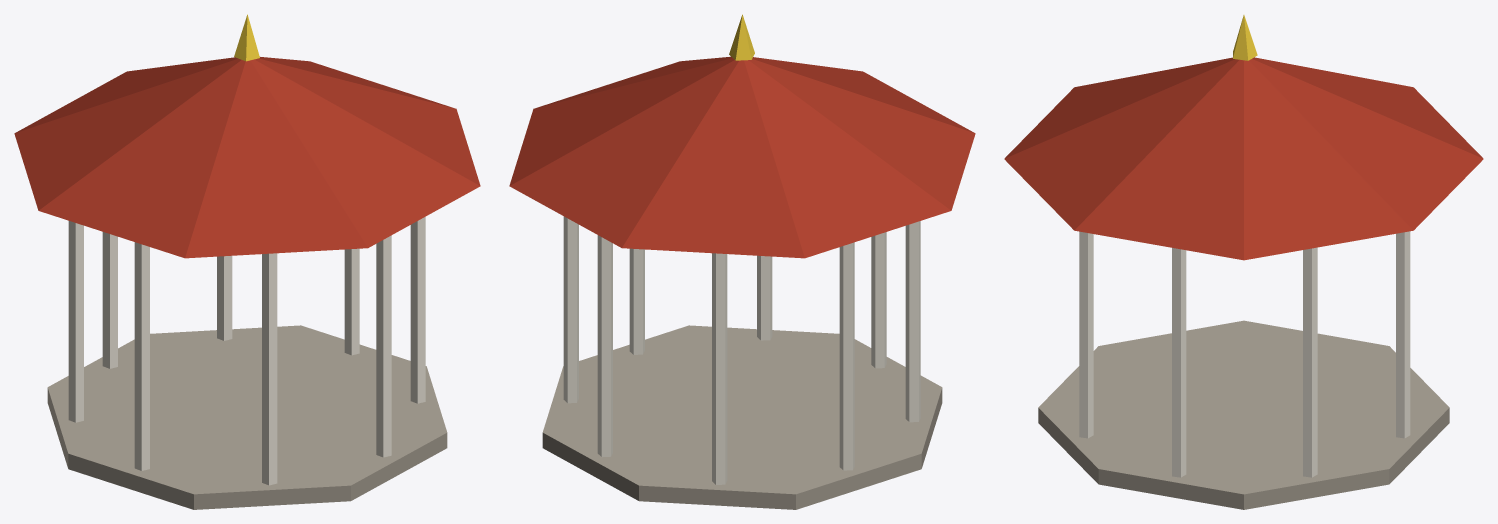
Rendered from gazebo.glb.
The picture shows the model from 3 angles, left to right: view 1: azimuth 30°, elevation 25°; view 2: azimuth 150°, elevation 25°; view 3: azimuth 270°, elevation 25°; orthographic projection.
Parts seen in each view (by area): view 1: gazebo; view 2: gazebo; view 3: gazebo.
Boxes of the visible parts, x1,y1,x2,y2 form: gazebo: (14,14,480,509); gazebo: (509,14,975,509); gazebo: (1004,15,1483,509).
Bounding box in the file's own units: 4.2 × 3.95 × 4.2.
